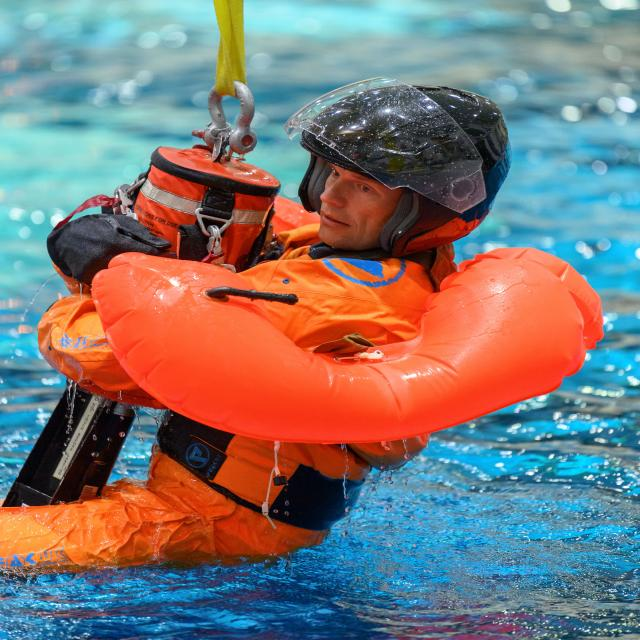Mannequin_wearing_orange-colored_life_preserver_unit_(LPU): (90, 195, 604, 448)
